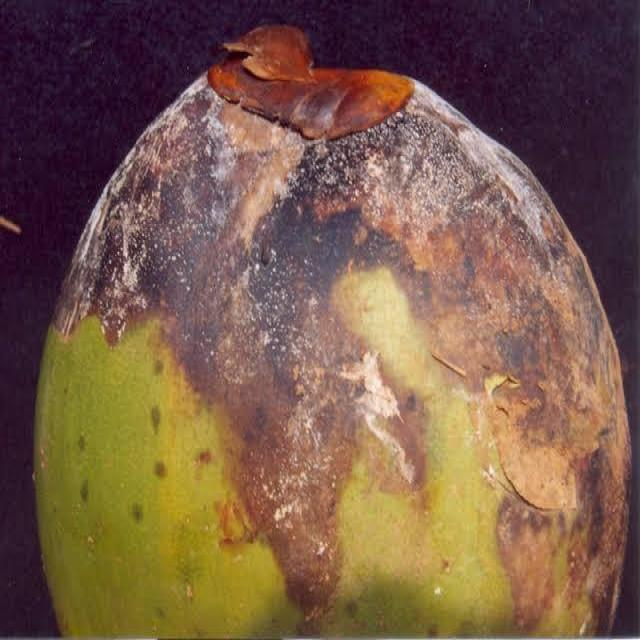damaged: (34, 27, 628, 635)
